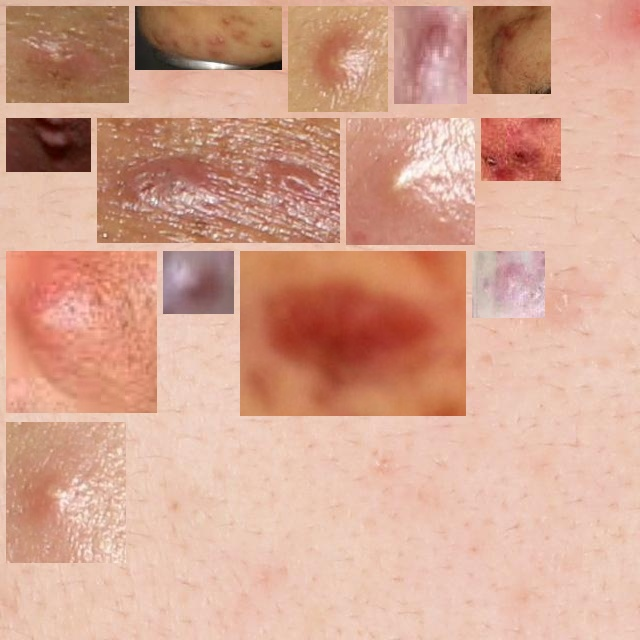nodule: (248, 259, 458, 408), (105, 126, 332, 235), (14, 259, 149, 405), (14, 430, 118, 555), (354, 126, 467, 237), (14, 14, 121, 95), (296, 14, 380, 104), (143, 14, 274, 62), (402, 14, 459, 96), (481, 14, 543, 86), (489, 126, 553, 173), (480, 259, 537, 310), (14, 126, 83, 164), (171, 259, 226, 306)
